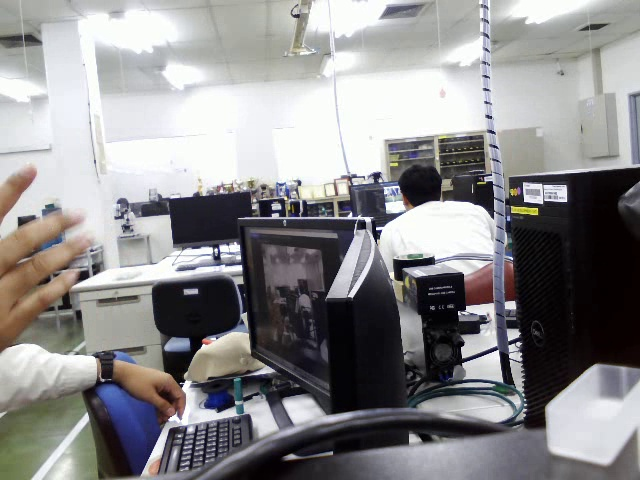aaa: (144, 254, 249, 347)
